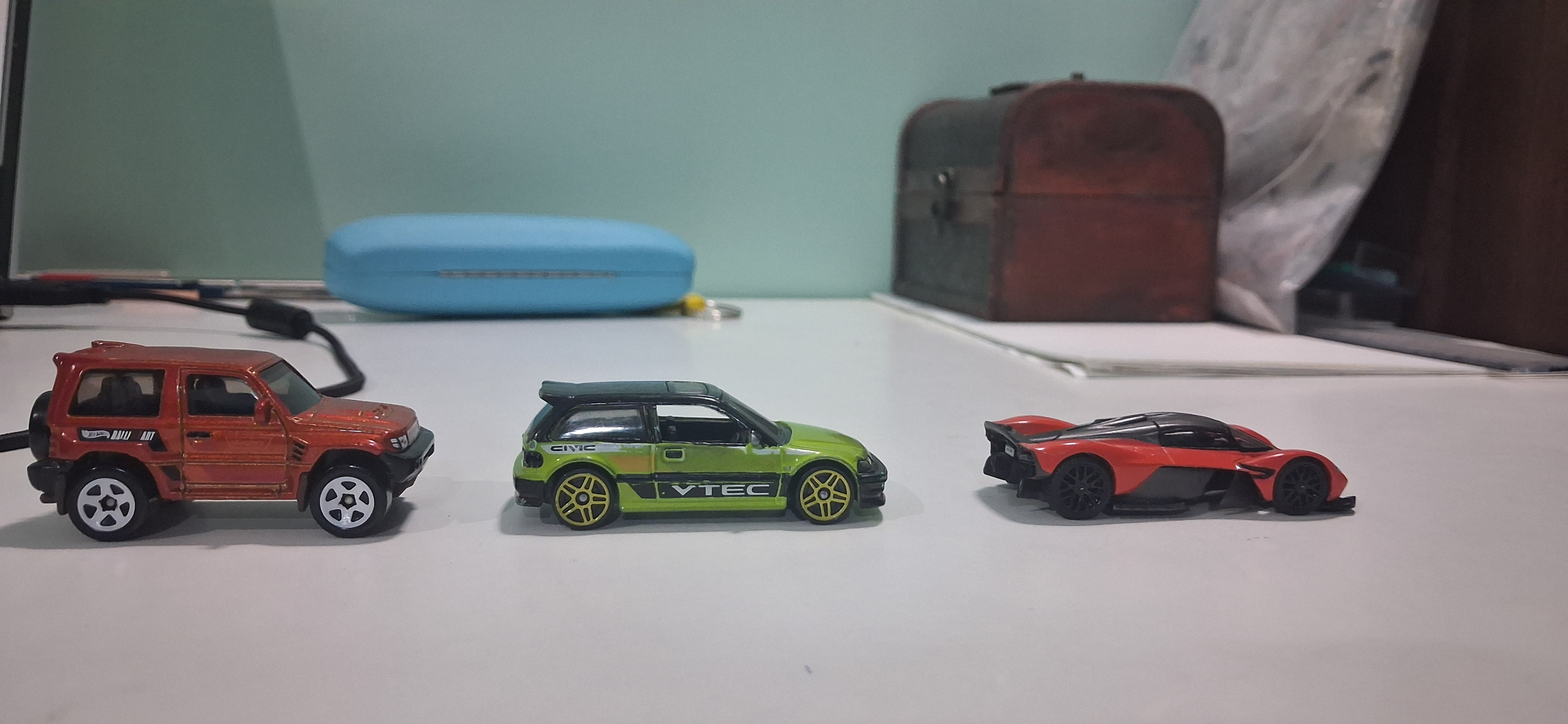Aston_Martin_Valkyrie: (970, 374, 1379, 539)
Honda_Civic: (486, 347, 918, 571)
Mitsubishi_Pajero_Evolution: (16, 313, 437, 566)
